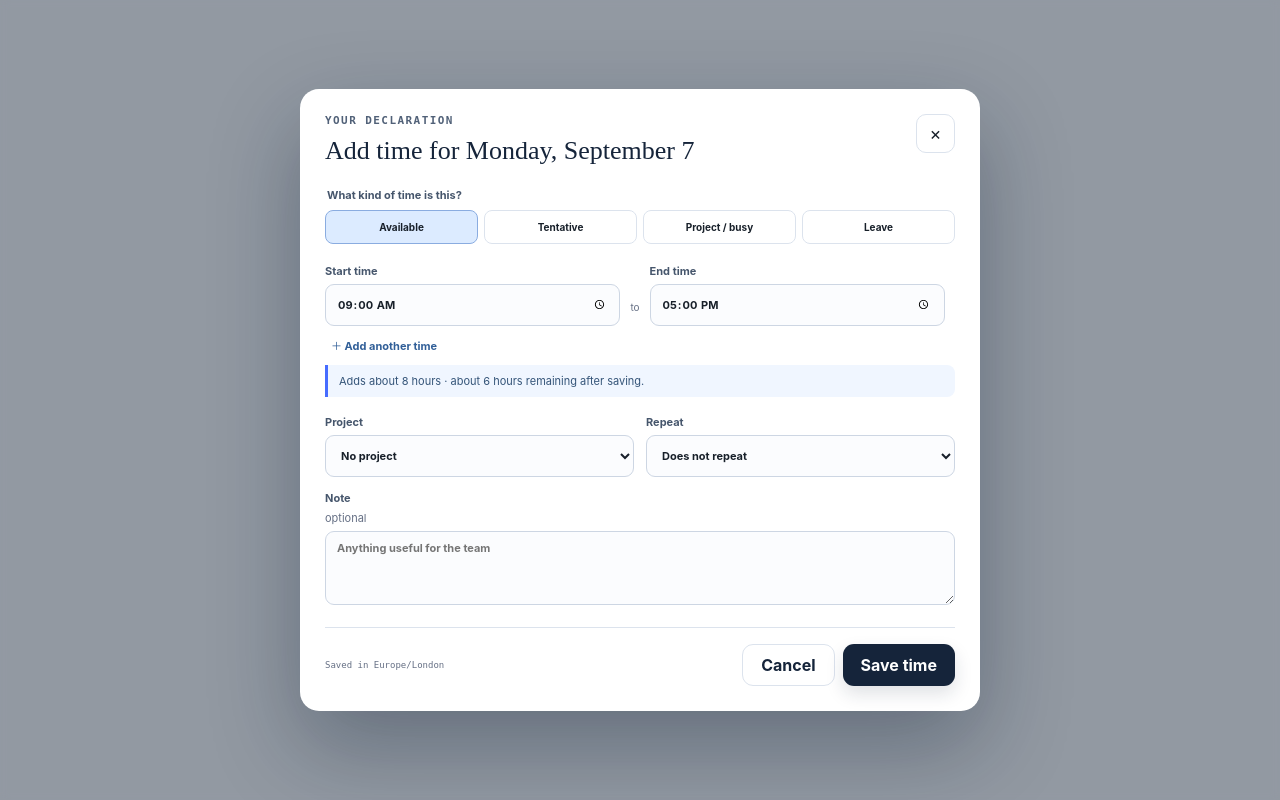
Scenario: member interface › explains which declarations count toward weekly availability
Expected: the text "Adds about 8 hours · about 6 hours remaining after saving." is shown, top-left (325, 365), bottom-right (955, 397)
Click the radio button labelled "Tentative". click: (560, 227)
box: top-left (484, 210), bottom-right (637, 244)
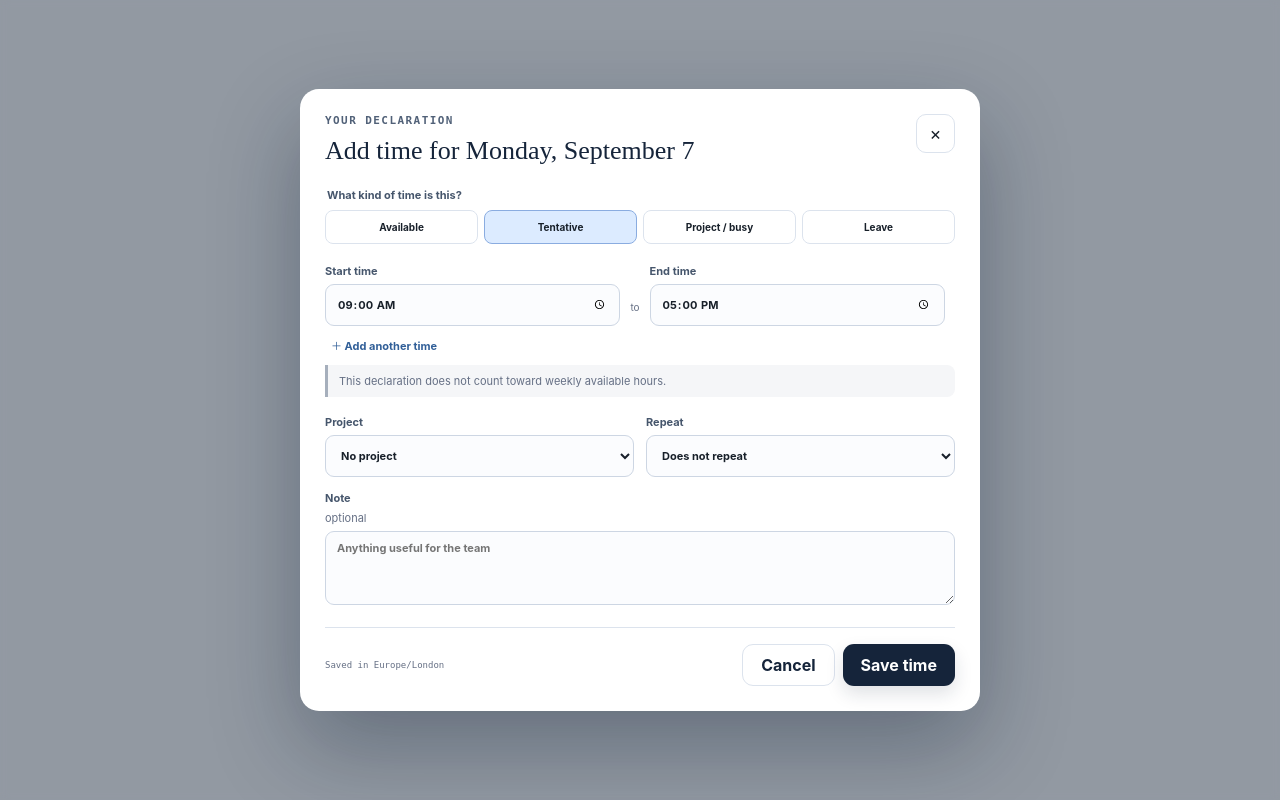
Expected: the text "does not count toward weekly available hours" is shown, top-left (339, 374), bottom-right (666, 388)
